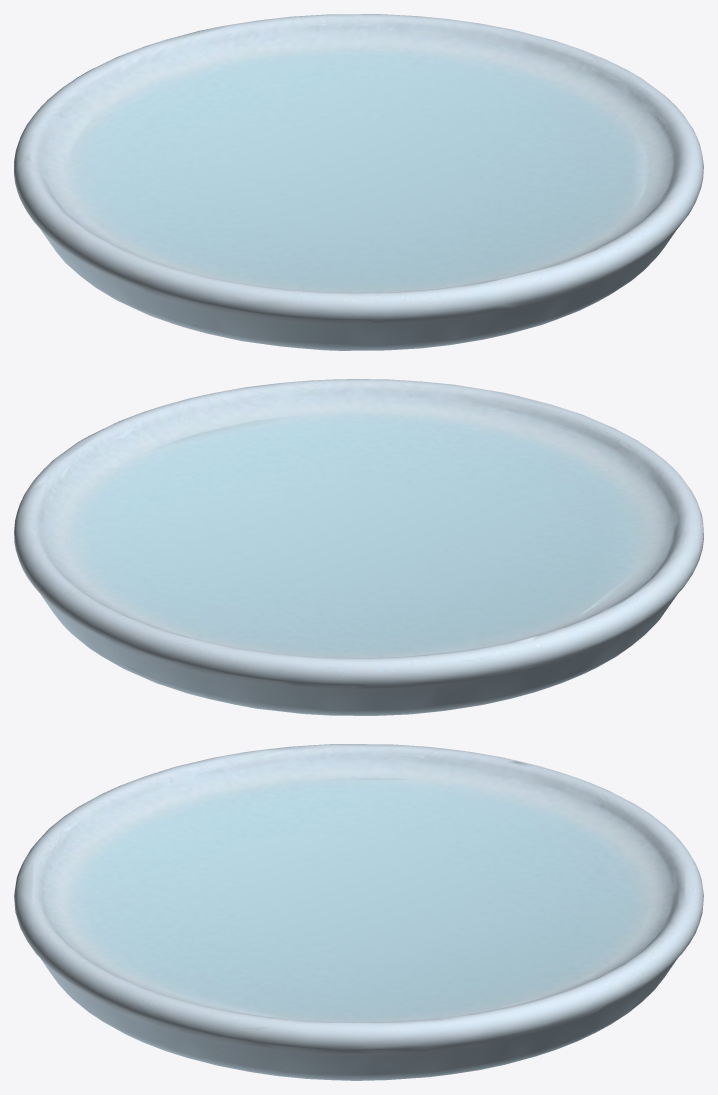
Rendered from water_bowl.fbx.
3 views of the same model, one above another, from view 1: azimuth 30°, elevation 25°; view 2: azimuth 150°, elevation 25°; view 3: azimuth 270°, elevation 25° (orthographic).
Visible parts, largest first — view 1: water_bowl.001; view 2: water_bowl.001; view 3: water_bowl.001.
Boxes of the visible parts, box(x1,y1,x2,y2) form: water_bowl.001: box(14, 14, 703, 350); water_bowl.001: box(14, 379, 703, 715); water_bowl.001: box(14, 744, 703, 1080).
Size of the model in its own units: 0.3201 by 0.038 by 0.32.
1 material, 1 textured.
